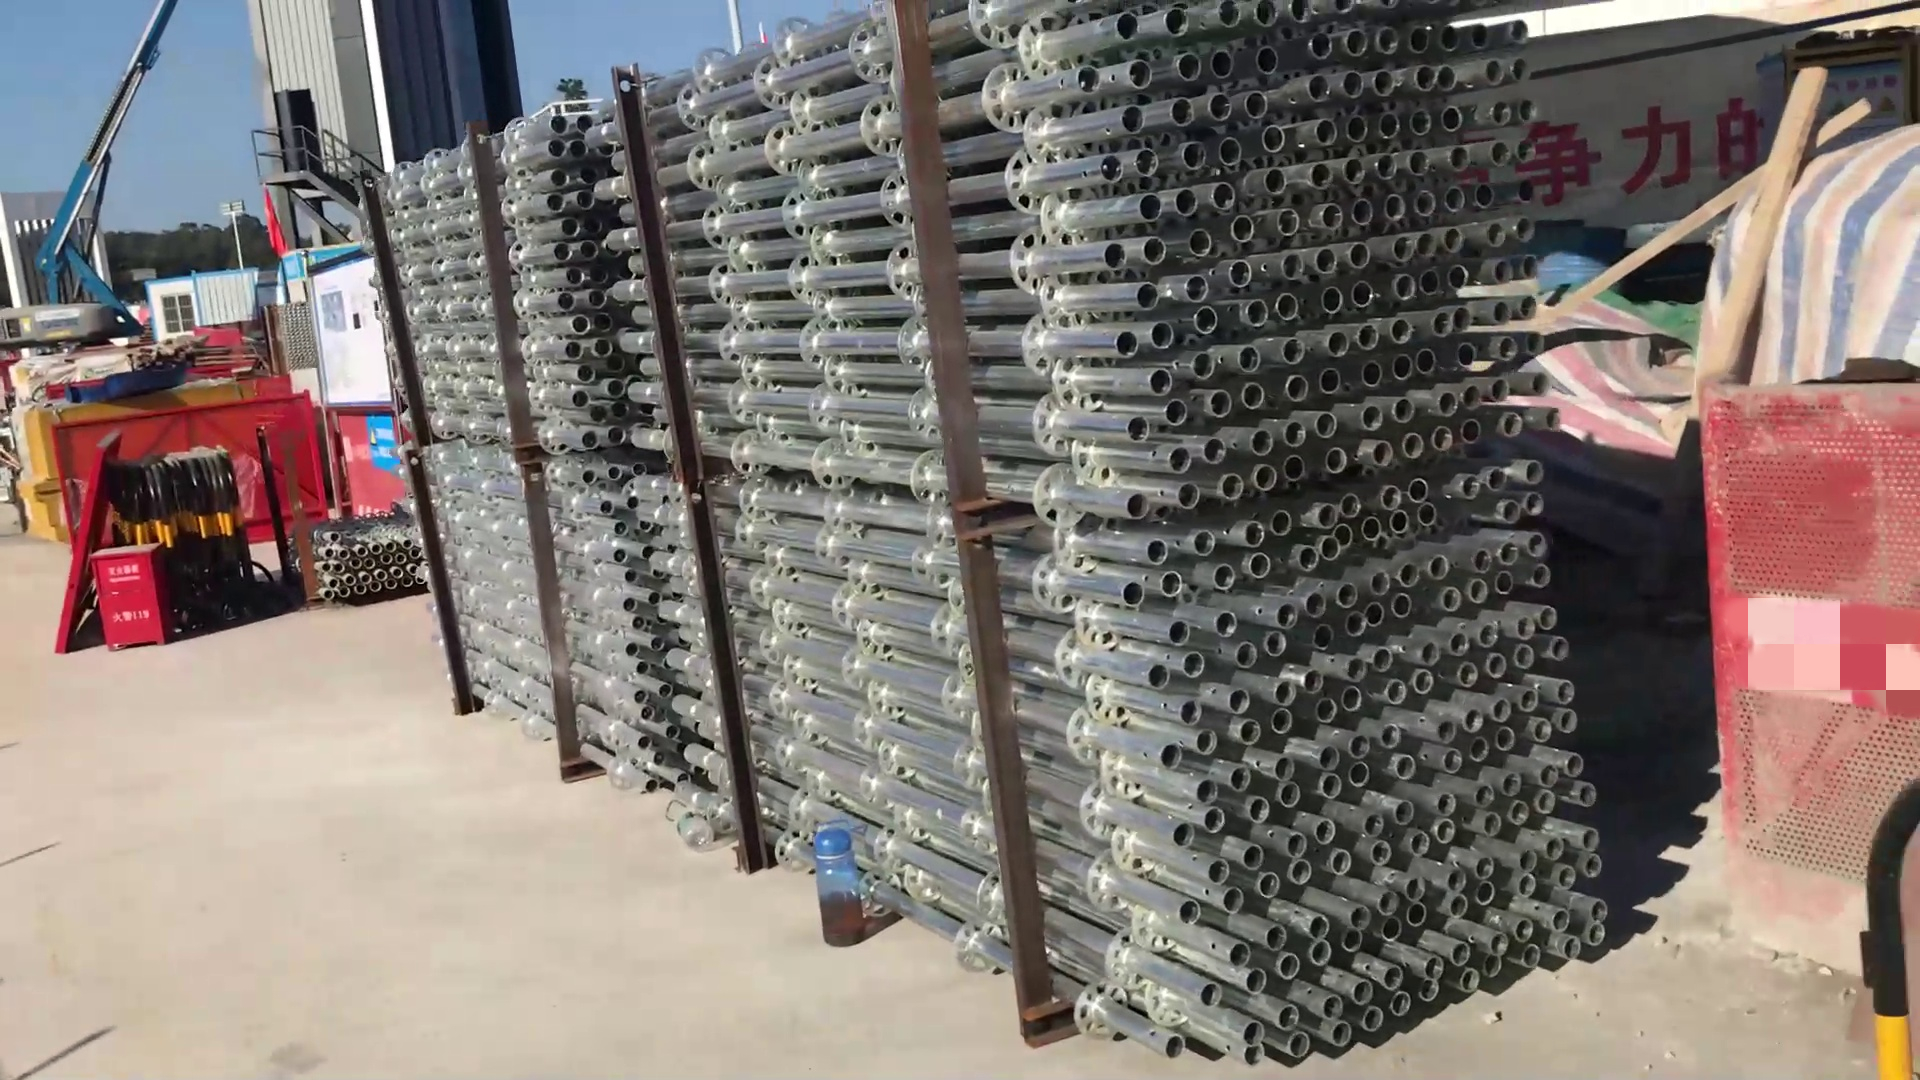fence: (47, 397, 328, 546), (112, 454, 261, 622), (320, 400, 405, 506)
scaffold: (673, 1, 1621, 1051), (367, 105, 688, 829), (319, 508, 442, 603)
